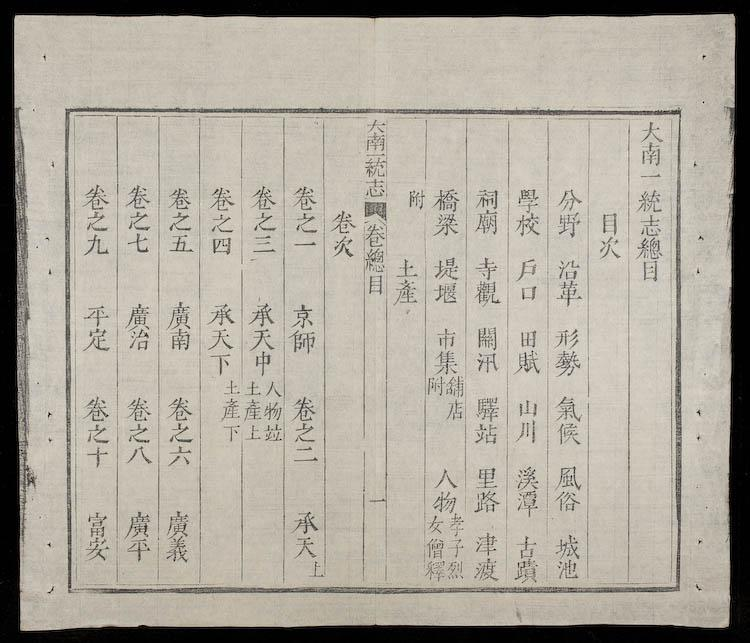c: (124, 509, 153, 538), (165, 300, 194, 329), (81, 182, 111, 210), (552, 349, 583, 376), (80, 326, 112, 352), (553, 393, 582, 421), (164, 508, 192, 536), (473, 394, 502, 421), (124, 301, 153, 328), (82, 394, 111, 421), (431, 186, 461, 212), (552, 532, 582, 558), (287, 328, 318, 353), (290, 394, 318, 421), (124, 182, 152, 209), (165, 394, 194, 420), (124, 395, 153, 421), (554, 279, 583, 305), (635, 187, 664, 213), (431, 212, 461, 237), (472, 280, 502, 305), (206, 301, 236, 326), (513, 349, 543, 374), (291, 183, 318, 210), (249, 184, 277, 210), (554, 463, 582, 489), (513, 464, 541, 490), (208, 185, 236, 211), (472, 489, 501, 514), (432, 255, 461, 280), (291, 509, 320, 534), (81, 302, 111, 326), (81, 537, 111, 561), (635, 236, 665, 260), (289, 302, 316, 328), (83, 510, 110, 536), (164, 537, 191, 563), (513, 490, 540, 516), (473, 464, 501, 489), (472, 557, 500, 582), (432, 349, 460, 374), (472, 531, 500, 556), (248, 301, 276, 326), (513, 212, 542, 236), (124, 537, 153, 561), (554, 421, 583, 445), (81, 233, 110, 257), (552, 325, 581, 349), (512, 559, 541, 583), (165, 444, 195, 467), (430, 490, 460, 513), (392, 279, 418, 305), (330, 208, 356, 234), (555, 212, 582, 237), (637, 142, 664, 167), (513, 533, 540, 558), (473, 255, 500, 280), (473, 210, 500, 235), (291, 535, 319, 559), (553, 489, 582, 512), (472, 422, 501, 445), (515, 185, 541, 210), (474, 324, 500, 349), (167, 185, 193, 210), (513, 419, 540, 443), (206, 327, 234, 350), (432, 281, 460, 304), (207, 351, 235, 374), (248, 327, 276, 350), (515, 256, 540, 281), (556, 187, 582, 211), (596, 236, 622, 260), (432, 466, 459, 489), (125, 328, 152, 351), (292, 212, 319, 235), (474, 350, 501, 373), (554, 257, 581, 280), (166, 232, 194, 254), (82, 210, 110, 232), (166, 421, 194, 443), (83, 445, 111, 467), (83, 422, 111, 444), (636, 214, 664, 236), (473, 187, 501, 209), (291, 444, 320, 465), (250, 350, 275, 374), (330, 235, 356, 258), (166, 329, 193, 351), (291, 421, 318, 443), (125, 232, 152, 254), (637, 120, 664, 142), (208, 212, 235, 234), (553, 559, 581, 580), (167, 210, 193, 232), (250, 234, 277, 255), (125, 210, 152, 231), (125, 422, 152, 443), (250, 211, 277, 232), (125, 445, 153, 465), (219, 397, 242, 421), (362, 156, 387, 178), (208, 235, 235, 255), (638, 260, 662, 282), (434, 326, 458, 348), (394, 256, 418, 278), (598, 211, 620, 234), (405, 187, 427, 210), (515, 396, 539, 417), (516, 327, 539, 348), (444, 398, 465, 421), (365, 223, 385, 247), (425, 537, 446, 559), (424, 560, 446, 581), (364, 134, 387, 154), (363, 178, 386, 198), (262, 400, 283, 421), (426, 513, 446, 535), (446, 513, 466, 535), (445, 375, 465, 397), (516, 283, 539, 302), (219, 422, 242, 441), (290, 238, 319, 253), (243, 398, 262, 420), (426, 375, 445, 395), (262, 422, 282, 441), (446, 560, 465, 580), (637, 169, 664, 183), (366, 274, 384, 295), (364, 118, 387, 134), (223, 377, 242, 396), (365, 247, 385, 265), (447, 537, 465, 557), (263, 379, 282, 397), (365, 257, 386, 272), (244, 379, 262, 396), (245, 423, 262, 440)
